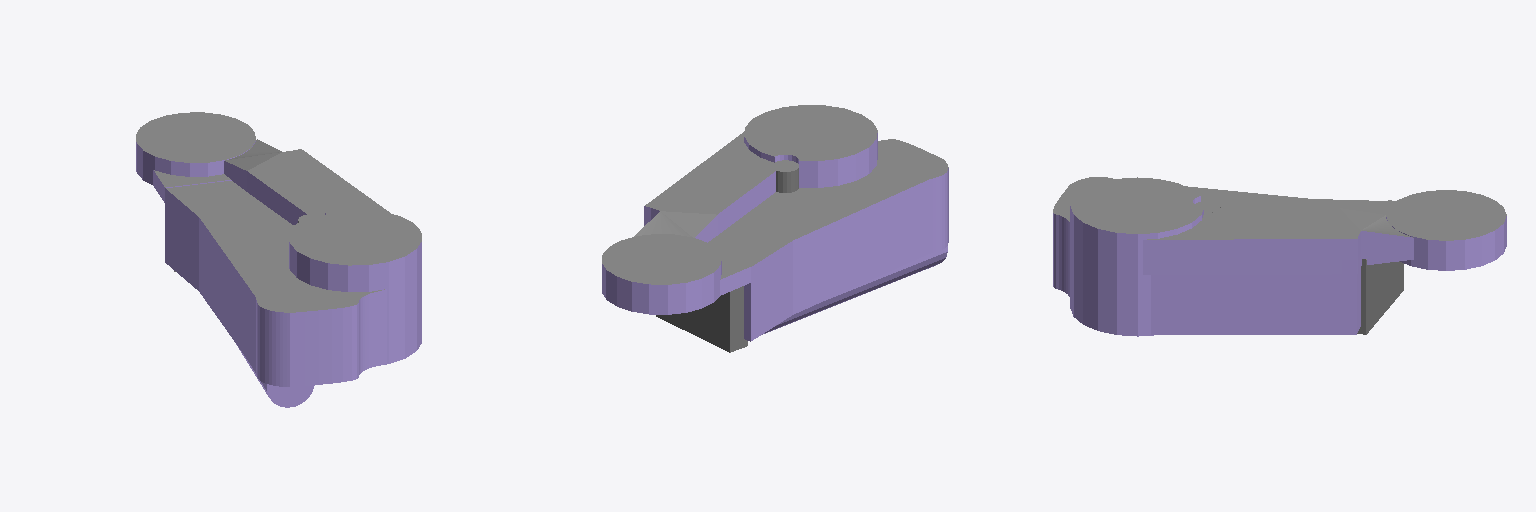
File: back_left_upper.obj
3 views of the same model, side by side, from view 1: azimuth 30°, elevation 25°; view 2: azimuth 150°, elevation 25°; view 3: azimuth 270°, elevation 25° (orthographic).
Bounding box in the file's own units: 1.91 × 1.35 × 4.34.